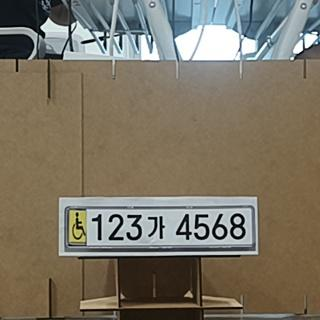disabled: (67, 209, 87, 244)
plate: (65, 206, 254, 249)
